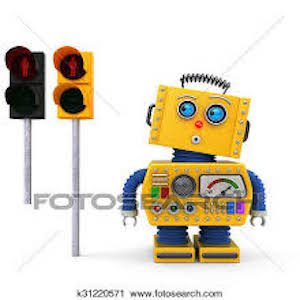red: (16, 56, 34, 83), (62, 54, 79, 79)
